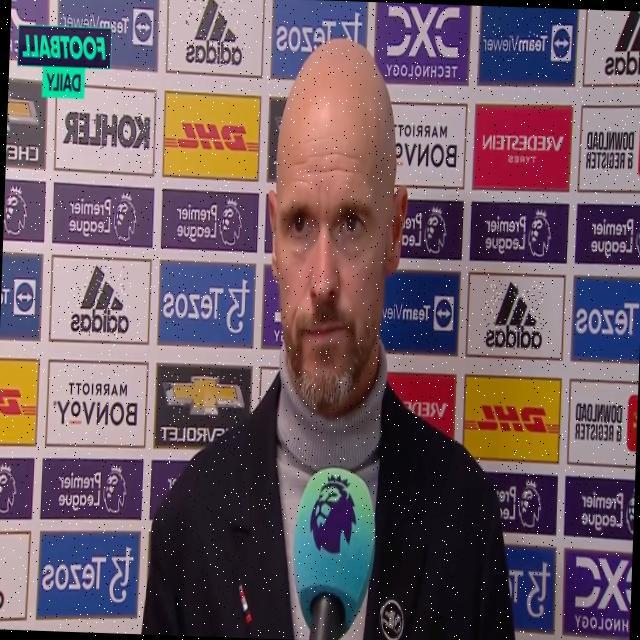Adidas: (69, 264, 131, 337), (484, 280, 544, 350), (183, 0, 244, 67)
Chevrolet: (159, 371, 243, 447)
Kohler: (61, 108, 150, 150)
TeamViewer: (481, 21, 572, 63)
